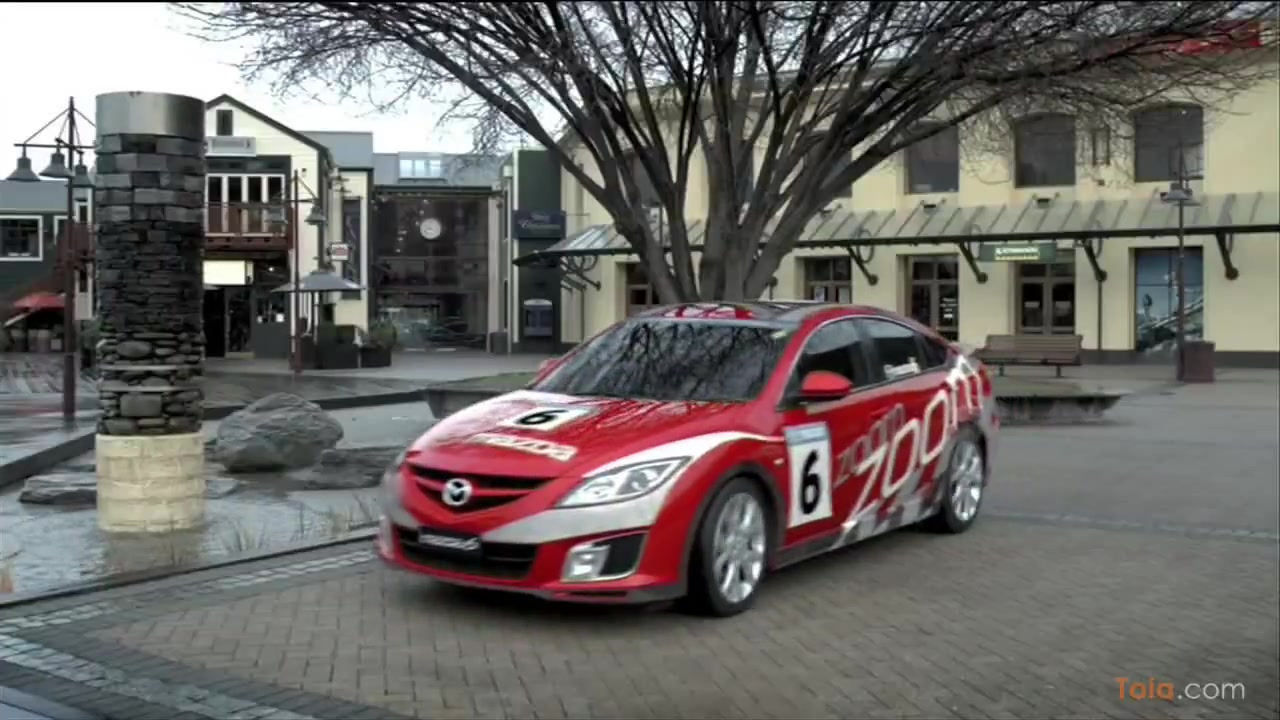car: (361, 300, 997, 620)
